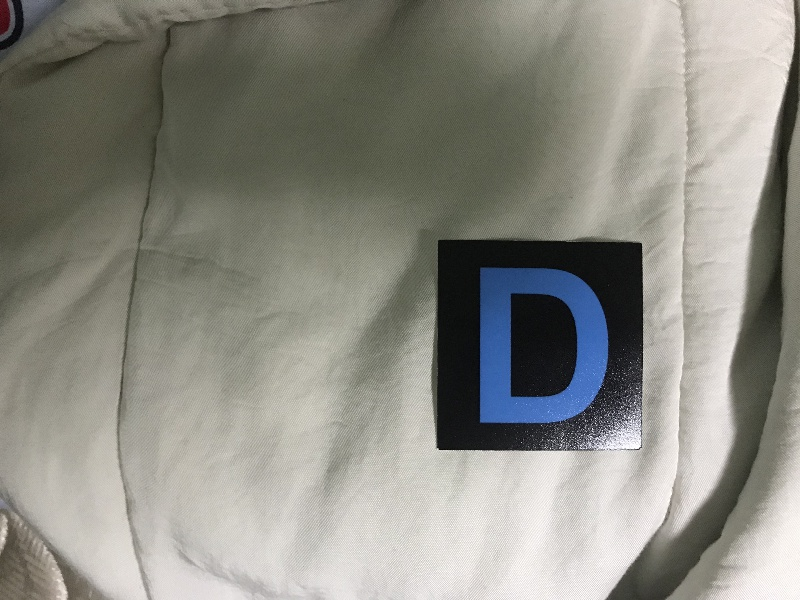D-14: (441, 242, 643, 448)
